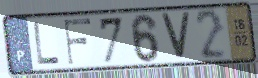2: (194, 7, 231, 63)
6: (129, 12, 162, 64)
7: (96, 17, 126, 65)
F: (63, 17, 93, 67)
L: (32, 21, 62, 67)
V: (159, 12, 193, 62)
